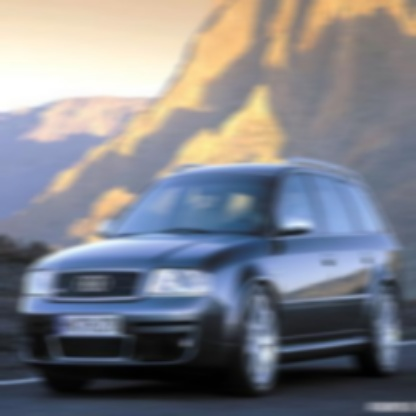Vehicle: (19, 155, 406, 402)
